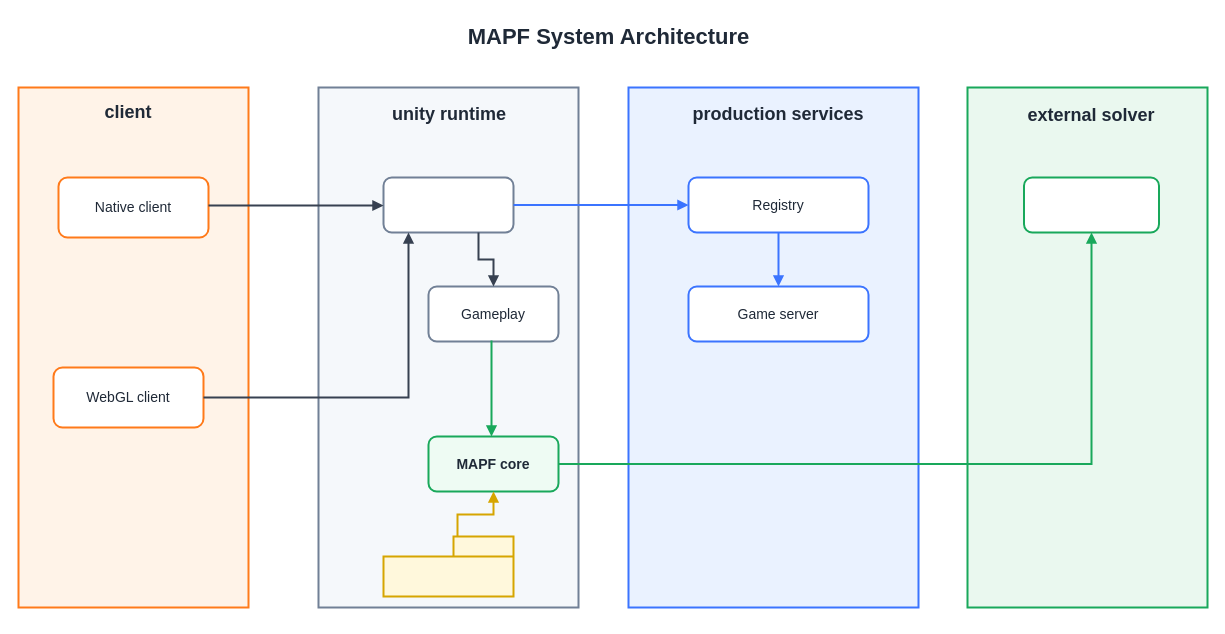
This 1225x634 diagram has some shape labels left out. The shapes that lost their labels are listed below. From the top down, each one's centre as x and y in pixels, then its label:
At (448,204): "Menu UI".
At (1091,204): "PIBT C++".
At (448,566): "Map data".
